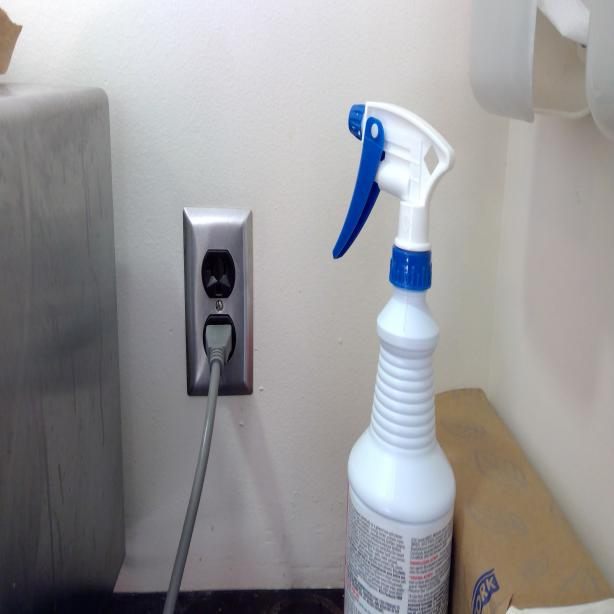typeb: (201, 243, 232, 300)
